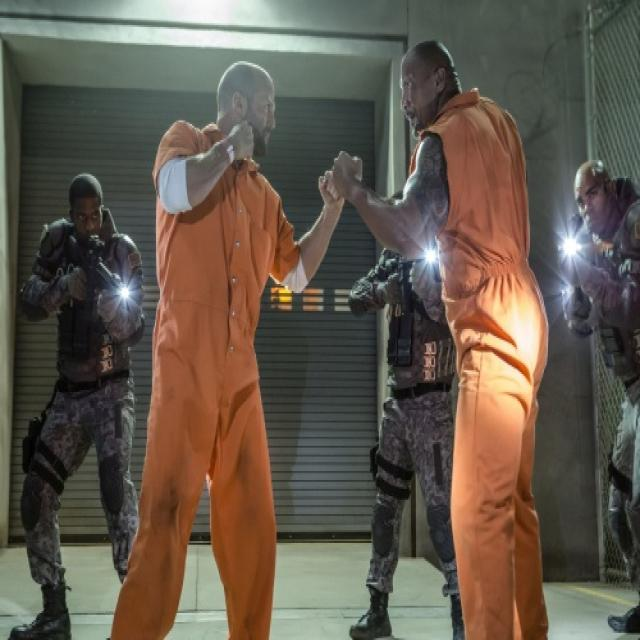rifle: (60, 222, 135, 300)
